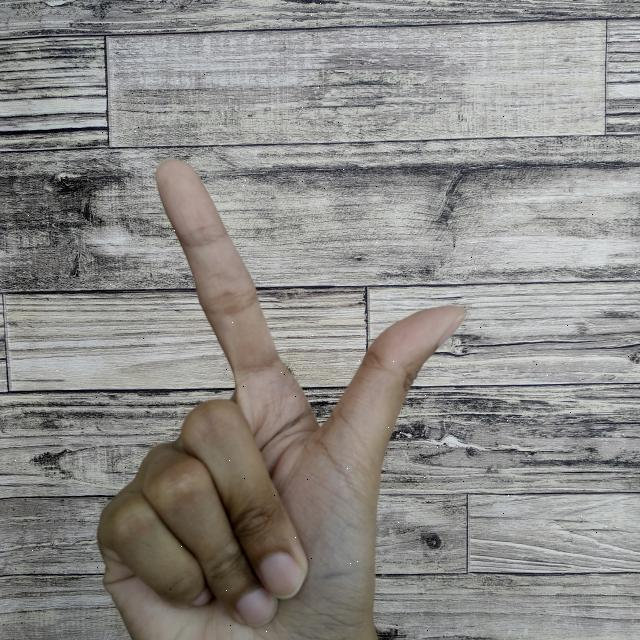L: (91, 150, 480, 640)
